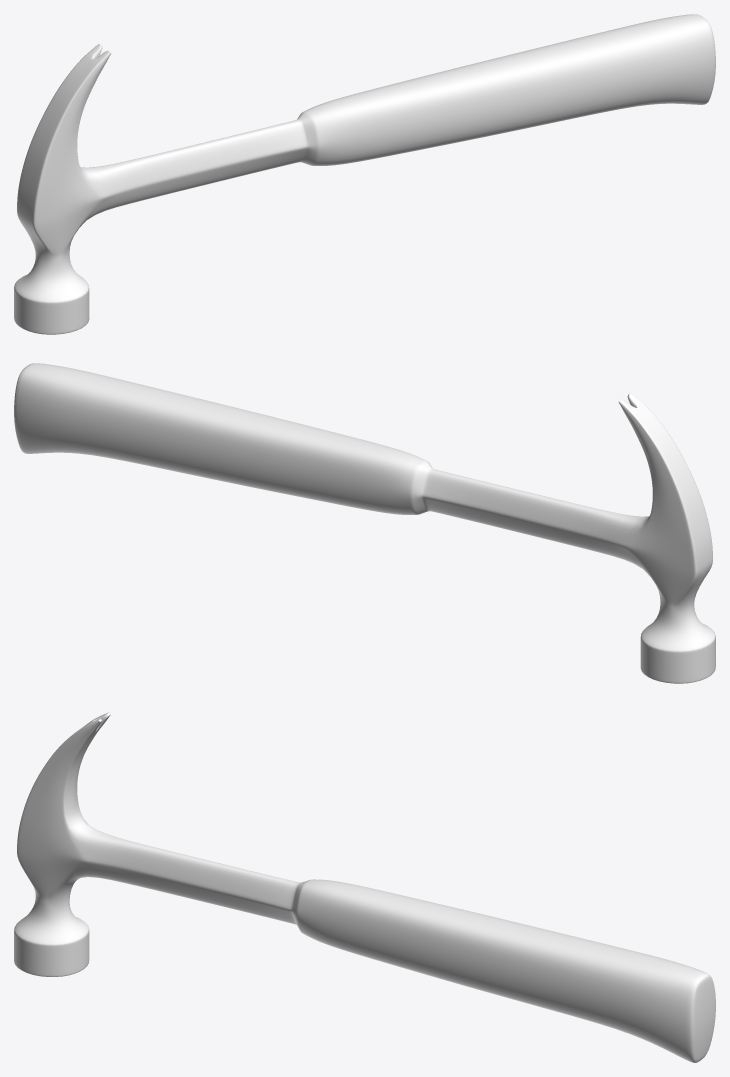
The model's file is hammer.obj.
3 views of the same model, one above another, from view 1: azimuth 30°, elevation 25°; view 2: azimuth 150°, elevation 25°; view 3: azimuth 330°, elevation 25° (orthographic).
Parts seen in each view (by area): view 1: hammer; view 2: hammer; view 3: hammer.
Boxes of the visible parts, box(x1,y1,x2,y2) form: hammer: box(14, 14, 715, 334); hammer: box(14, 363, 715, 683); hammer: box(14, 712, 715, 1062).
Size of the model in its own units: 32.87 by 11.92 by 3.11.
